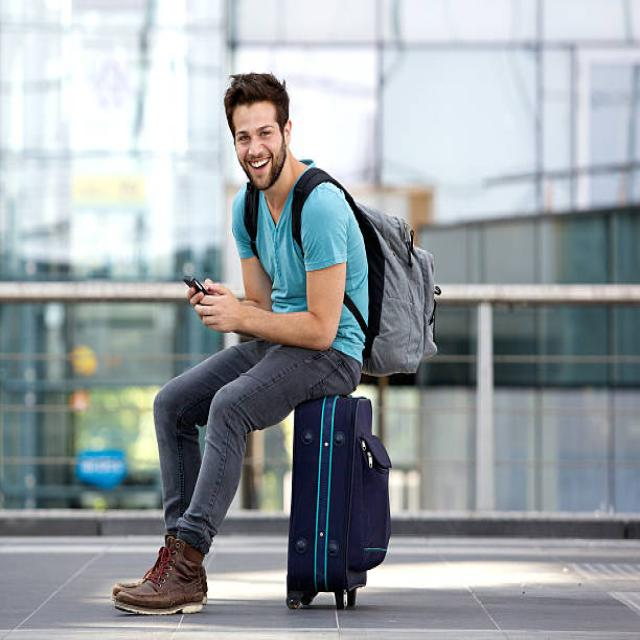Real human 2: (122, 59, 440, 621)
